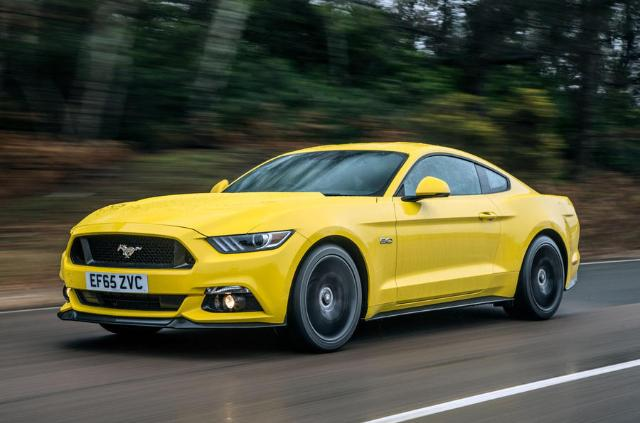ford-mustang: (56, 142, 580, 352)
